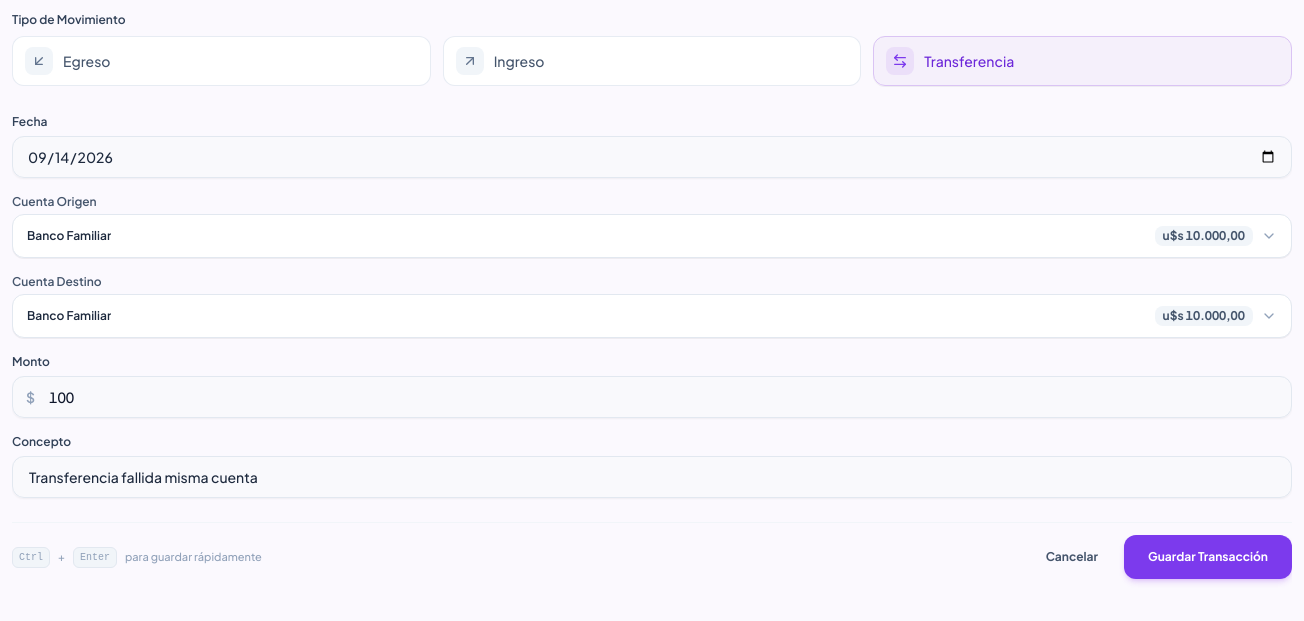
Scenario: QuickTransactionForm Component (T007) › Form Validation Rules › validates for transfers that source account !== destination account
This screenshot has width=1304, height=621.
Click the button "Guardar Transacción" at (1208, 557), box [1124, 535, 1292, 579]
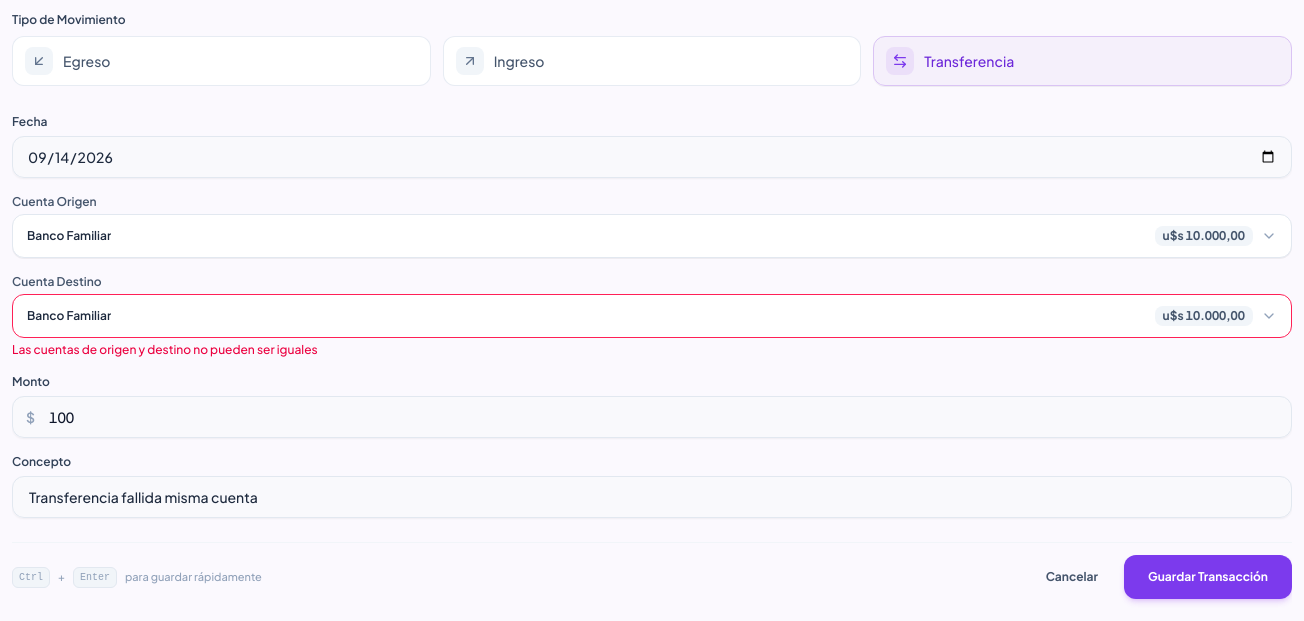
Check: the text "Las cuentas de origen y destino no pueden ser iguales" is shown, box [12, 342, 318, 357]
